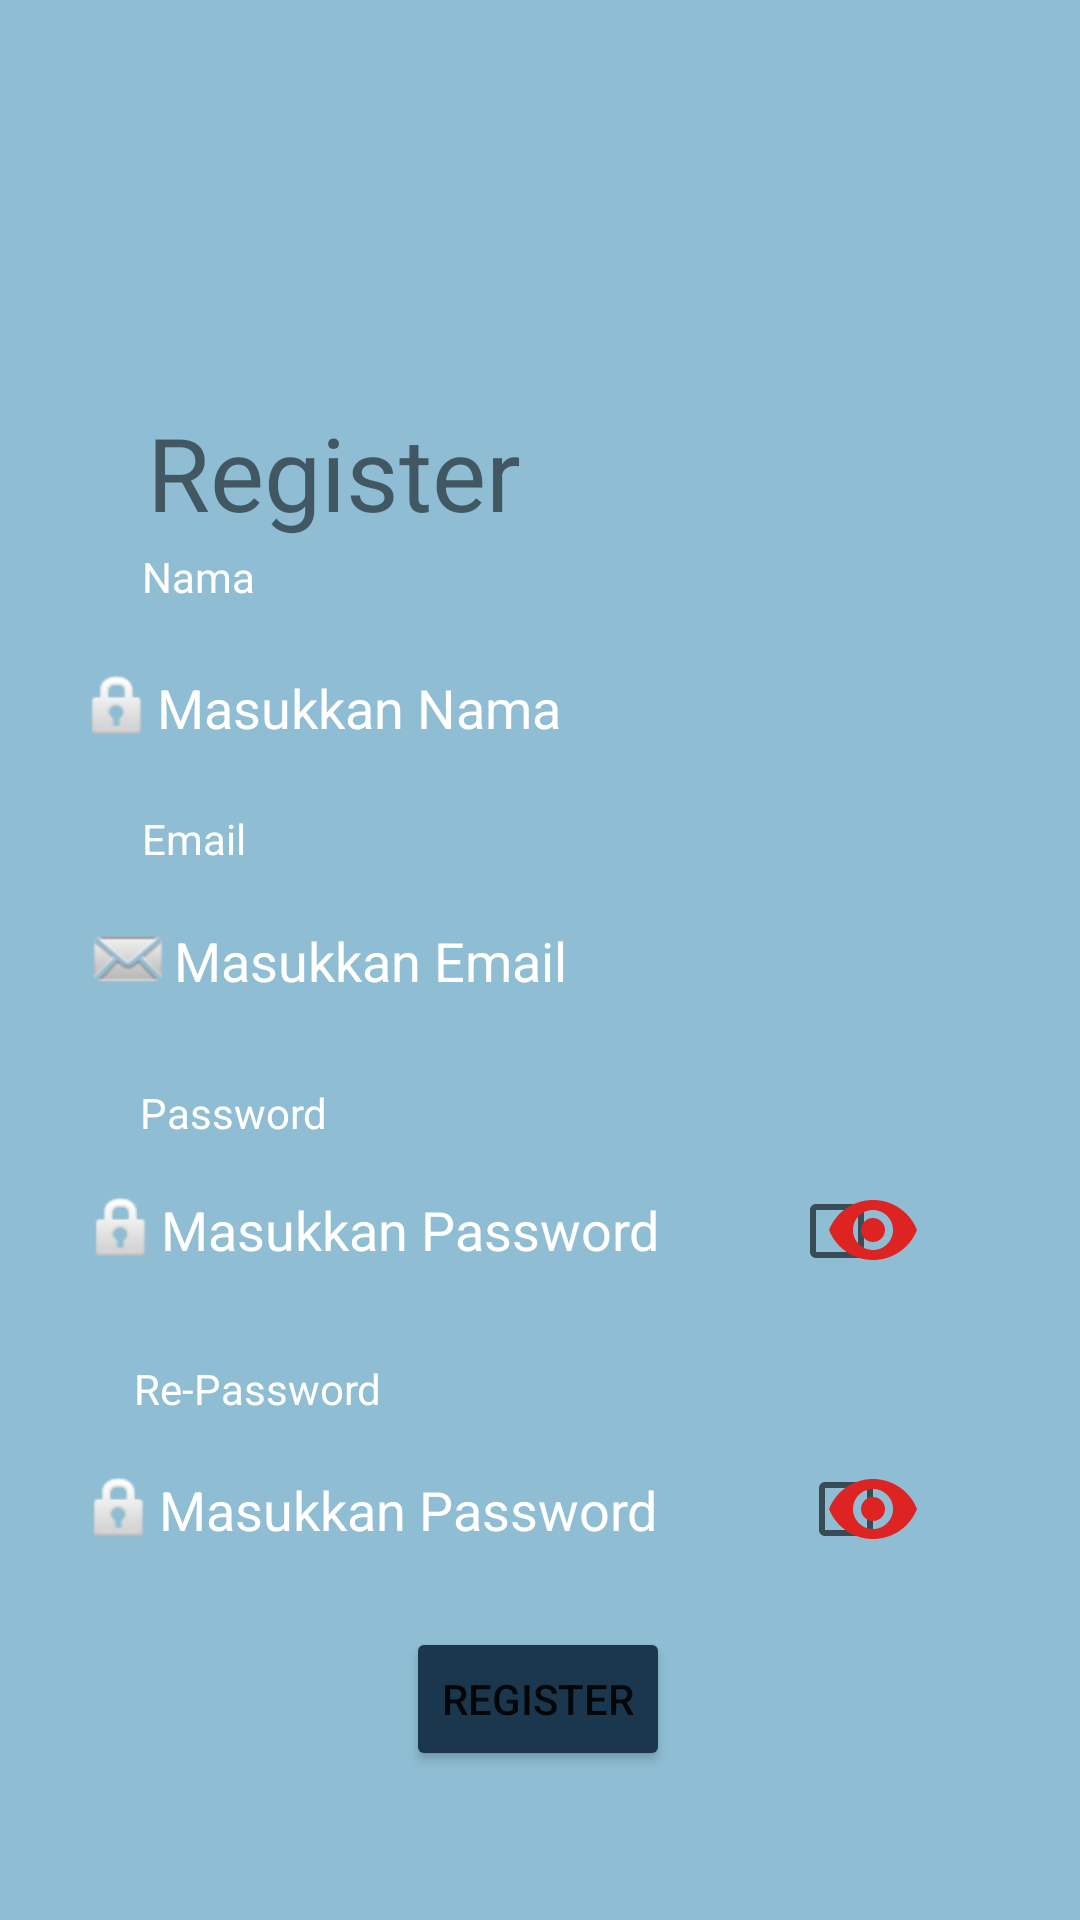

Where to tap for icons on this 1080×1920 app screen, as (x=x, y=y):
eyes: (x=863, y=1230), (x=868, y=1509)
